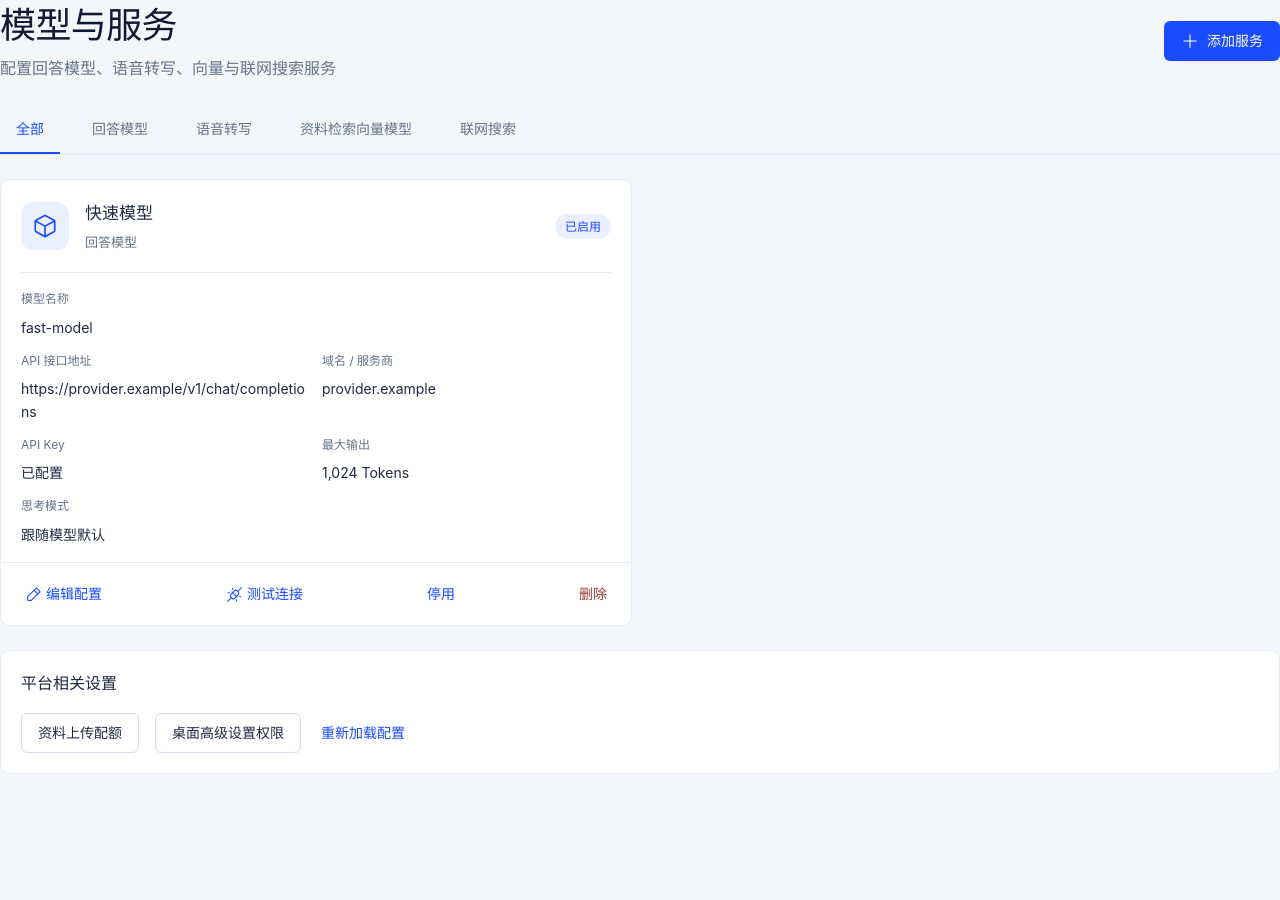
Scenario: unified model service forms › tests unsaved thinking settings without publishing configuration
Click the button "编辑配置" at [64, 594], box [21,579,106,610]
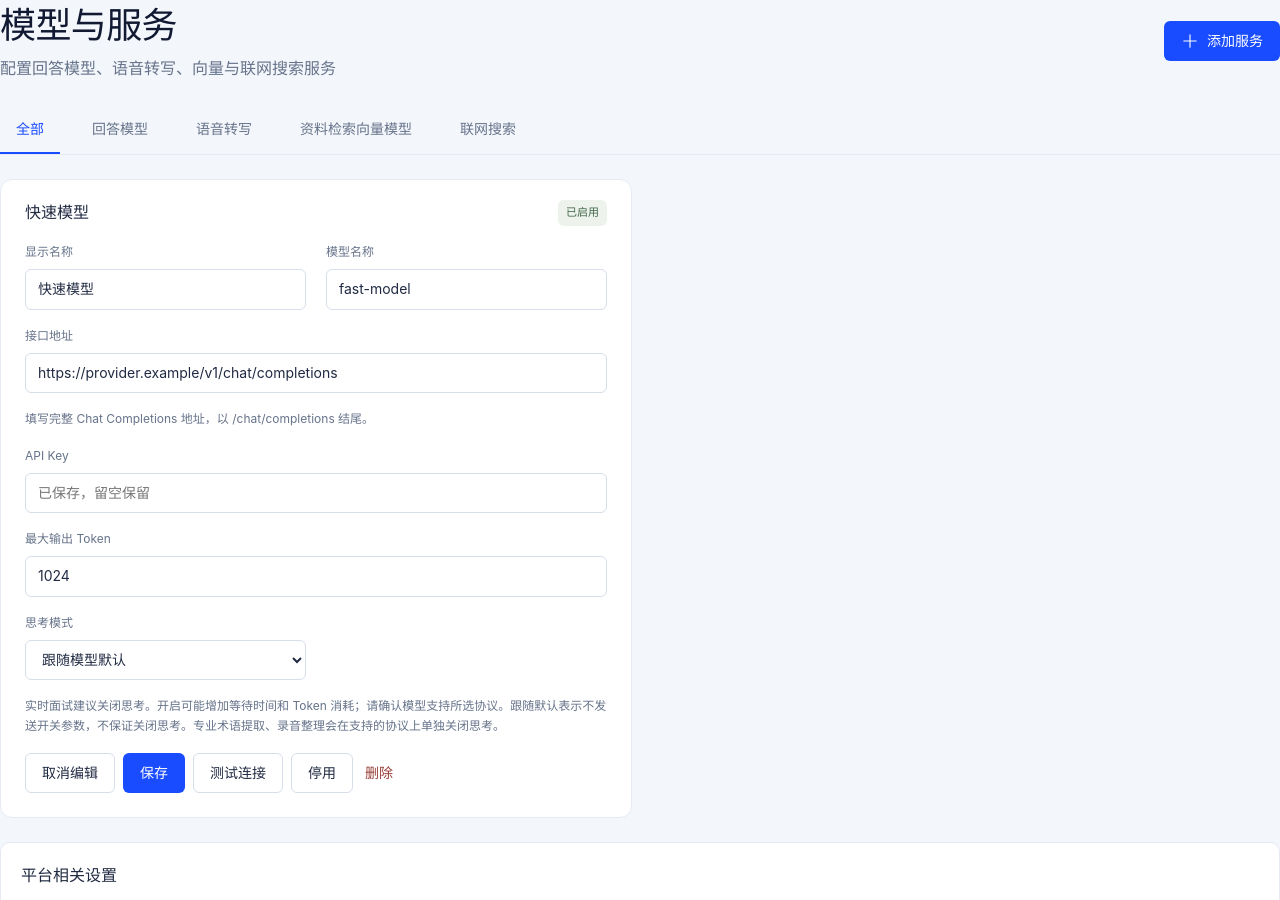
Select "关闭" in the dropdown labelled "思考模式" at [166, 660], box [25,640,306,680]
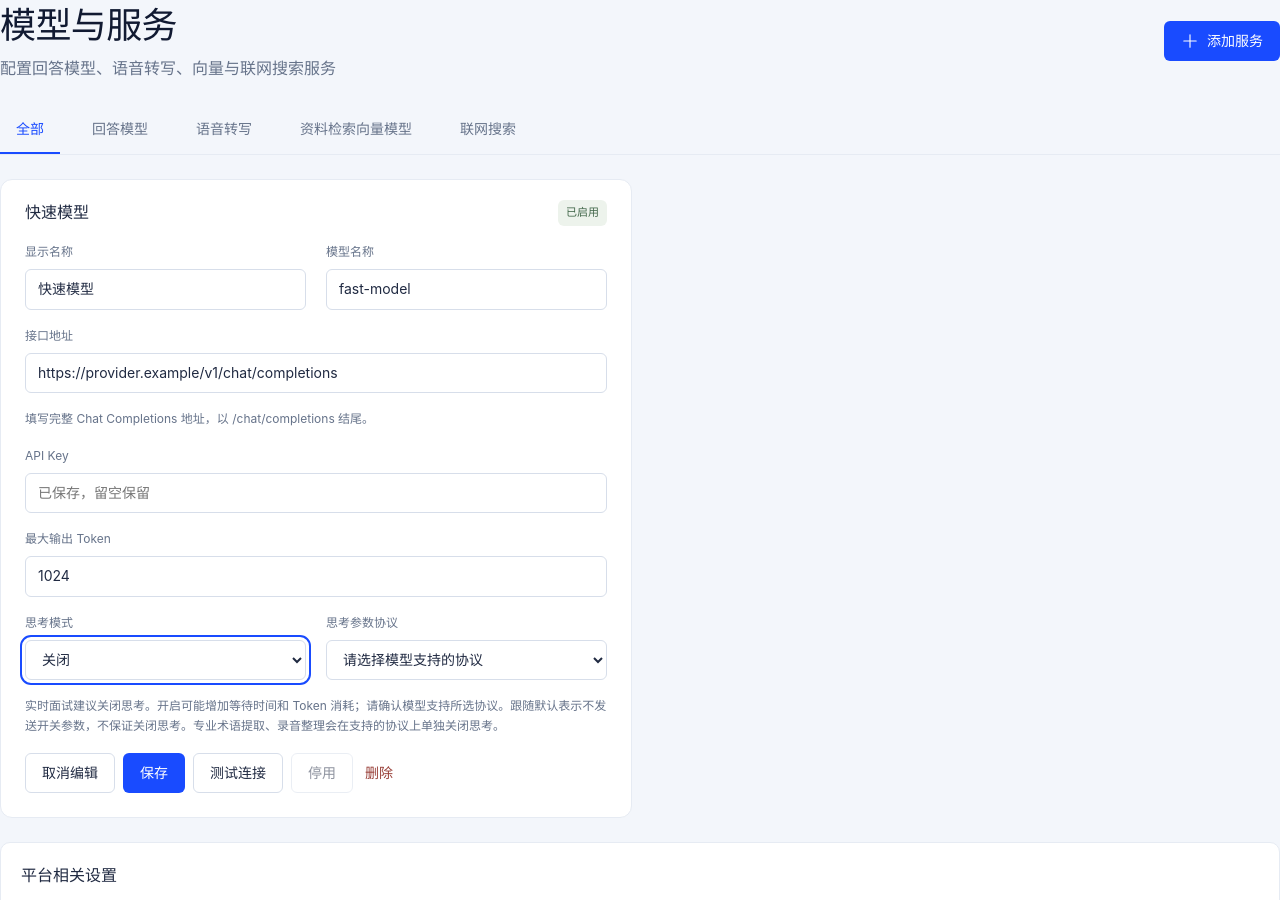
Select "阿里云百炼" in the dropdown labelled "思考参数协议" at [466, 660], box [326,640,607,680]
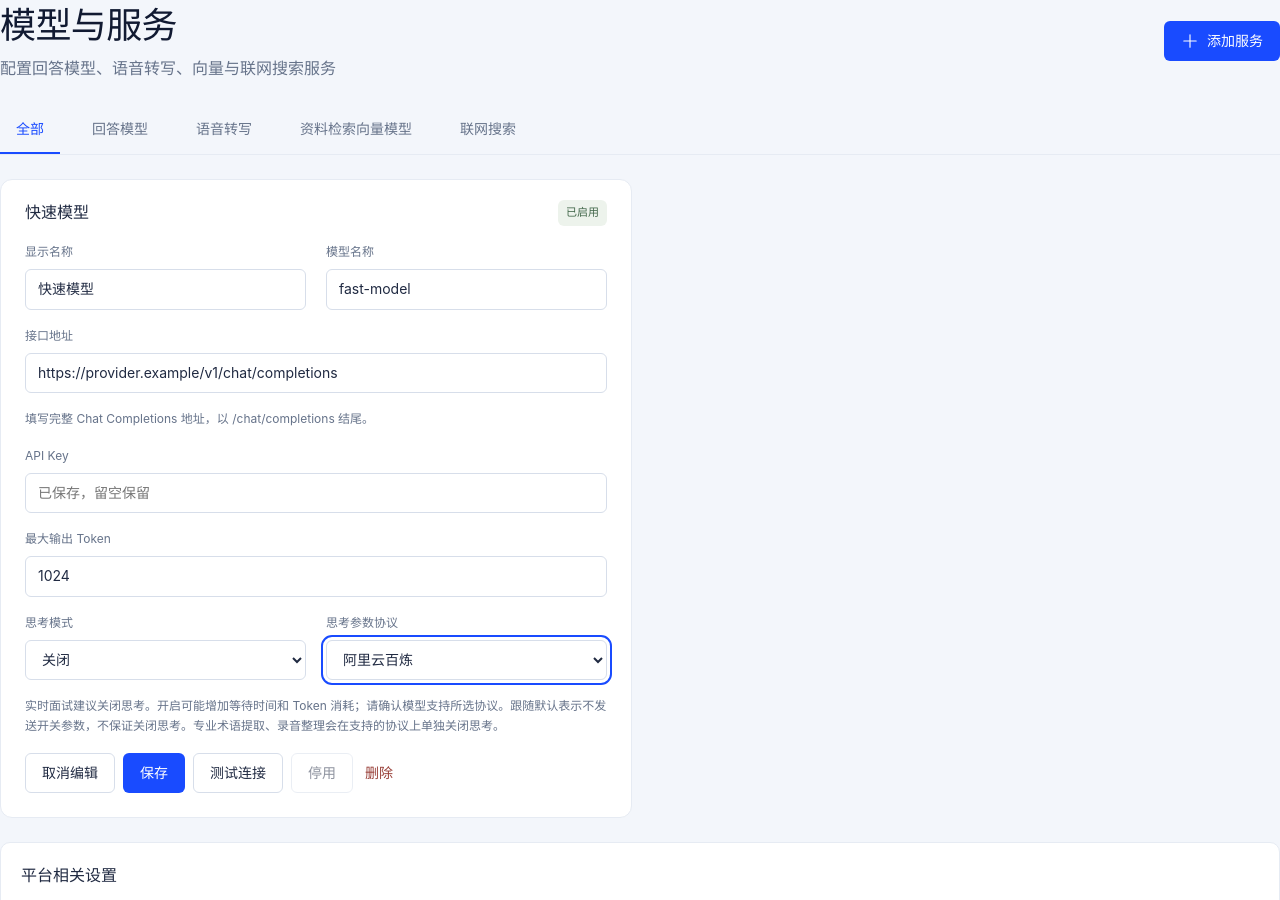
Click the button "测试连接" at [238, 773], box [193,753,283,793]
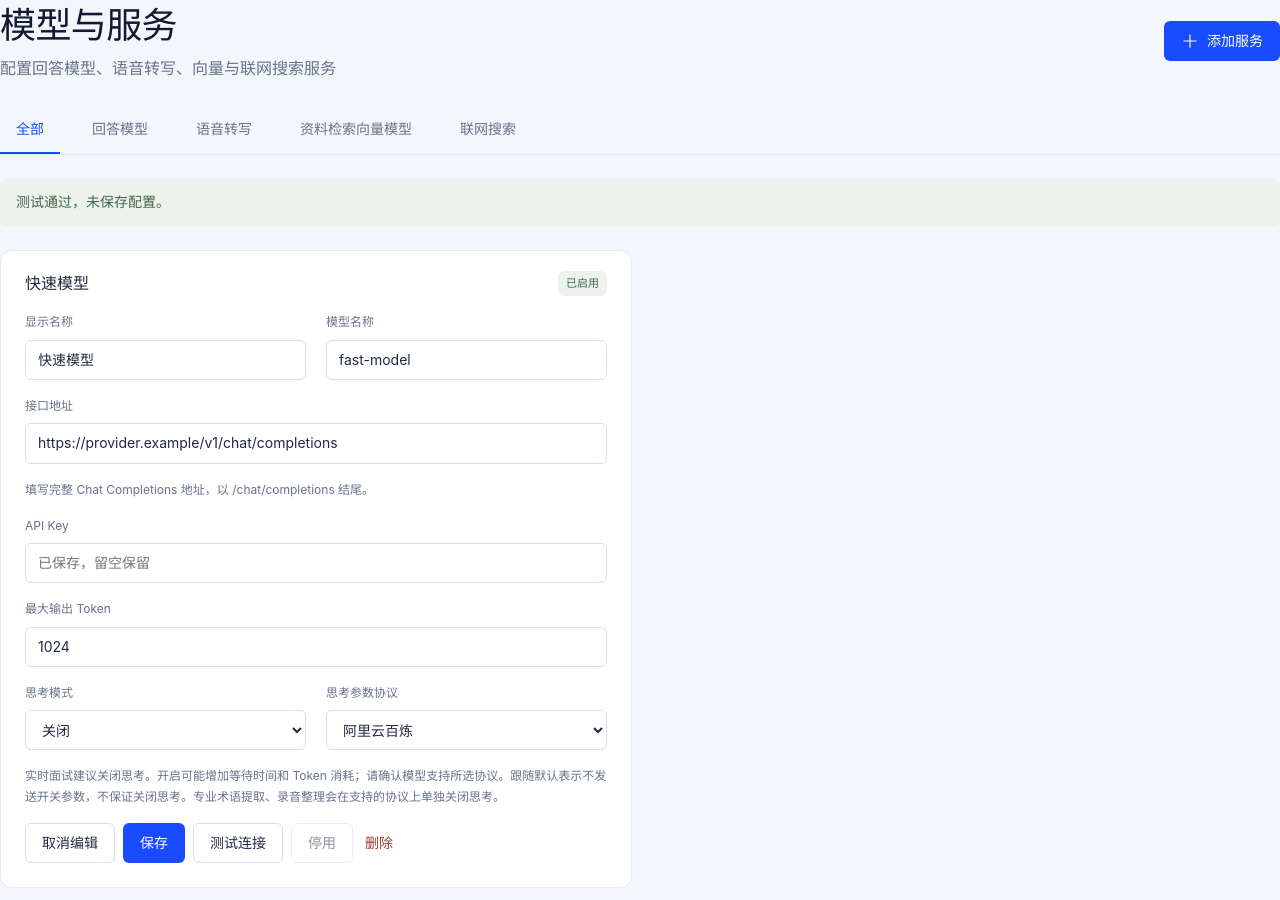
Expected: the text "测试通过，未保存配置。" is shown, [0,179,1279,226]
